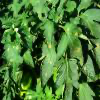Tomato mold leaf: (56, 20, 86, 65), (36, 40, 59, 88), (1, 32, 21, 84), (54, 58, 81, 95), (13, 19, 34, 50), (79, 53, 96, 83), (43, 20, 54, 56)
